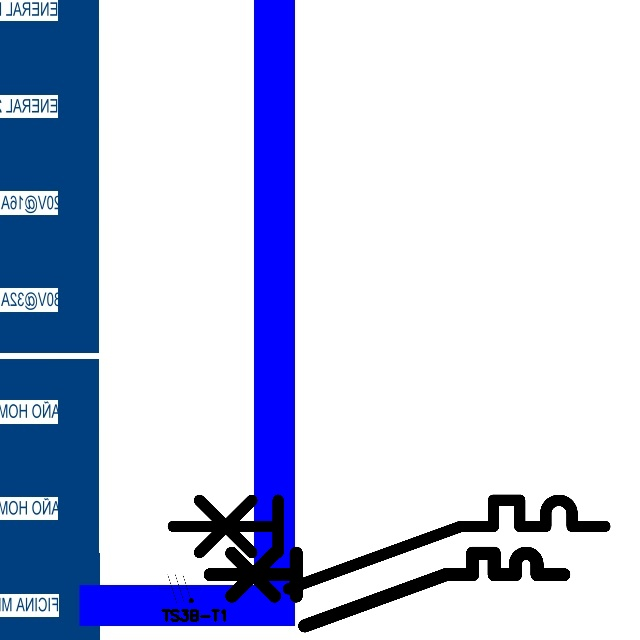interruptor_termomagnetico: (162, 489, 616, 600), (201, 544, 573, 635)
